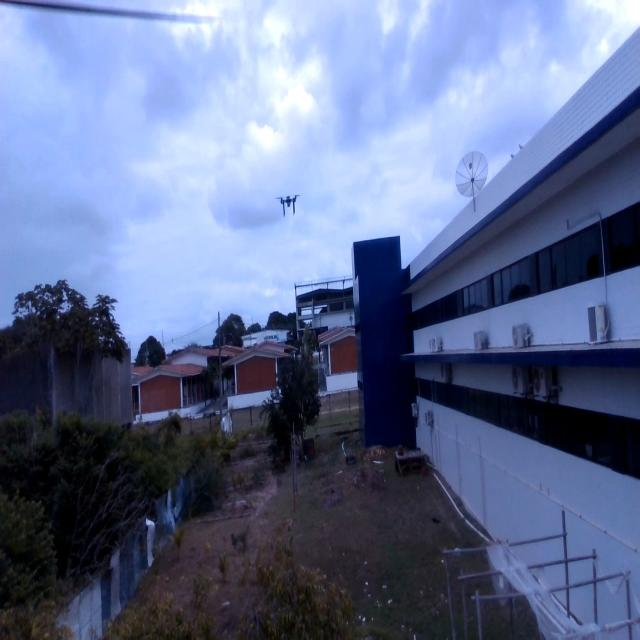-uav-: (273, 186, 305, 226)
